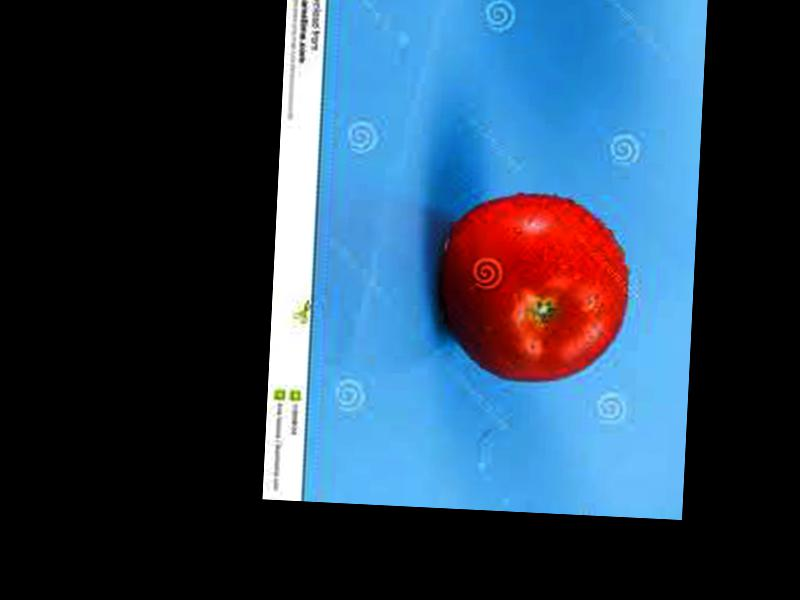Tomato: (437, 189, 632, 389)
